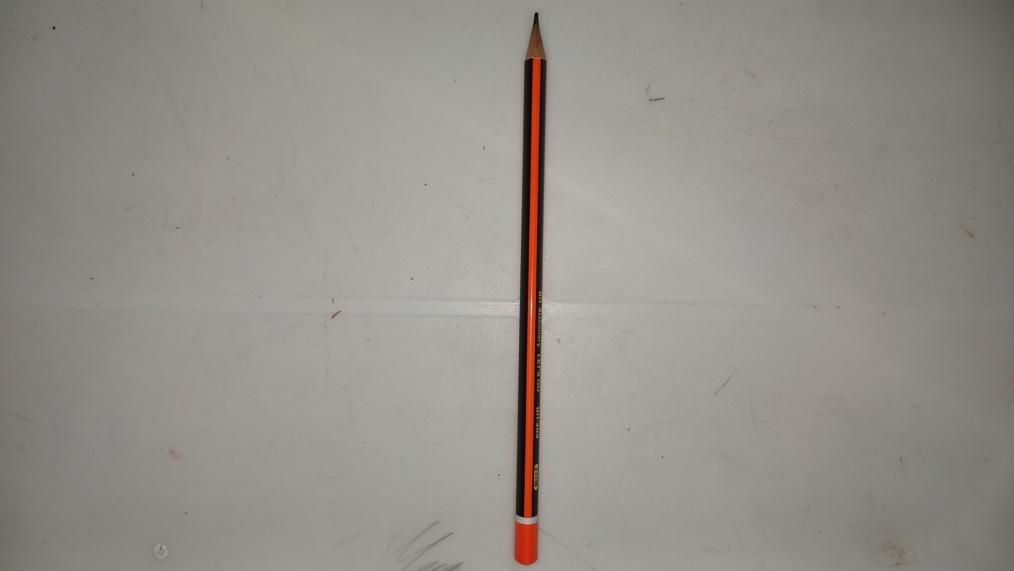Pencil: (514, 11, 548, 566)
